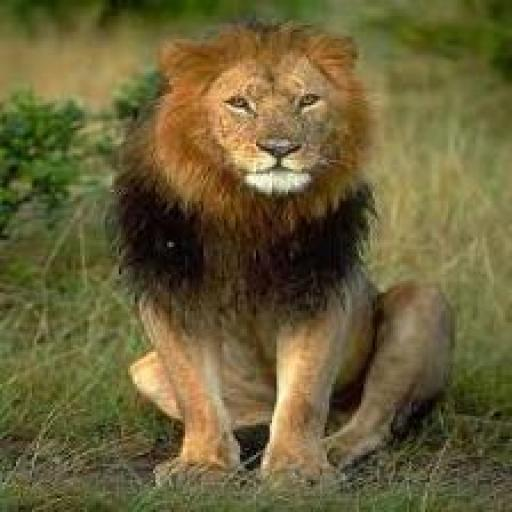lion: (78, 16, 459, 486)
